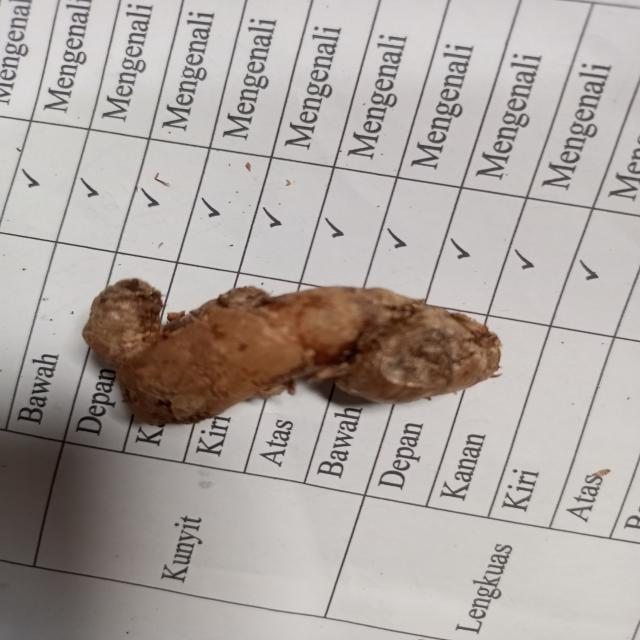ginger: (99, 279, 501, 413)
